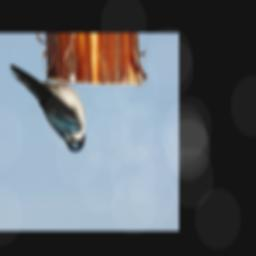Swallow: (8, 62, 86, 153)
